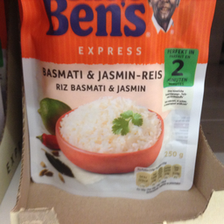rice: (20, 1, 216, 198)
